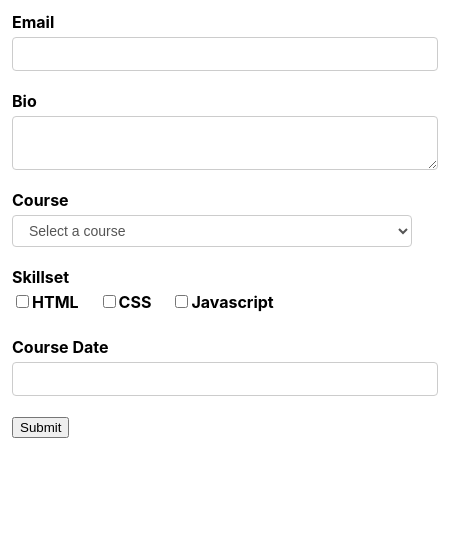
Test case: test to submit enrollment form with required validation
The width and height of the screenshot is (455, 535).
Click the submit button at (41, 428), box [12,417,70,438]
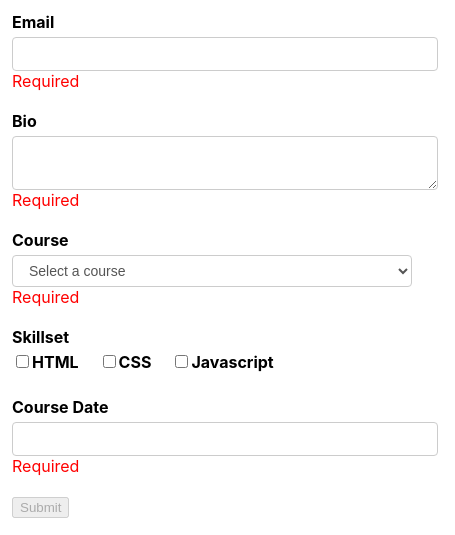
Expected: the submit button is disabled, [12,497,70,518]
Expected: the text with test id "emailError" reads "Required", [12,71,79,91]
Expected: the text with test id "bioError" reads "Required", [12,190,79,210]
